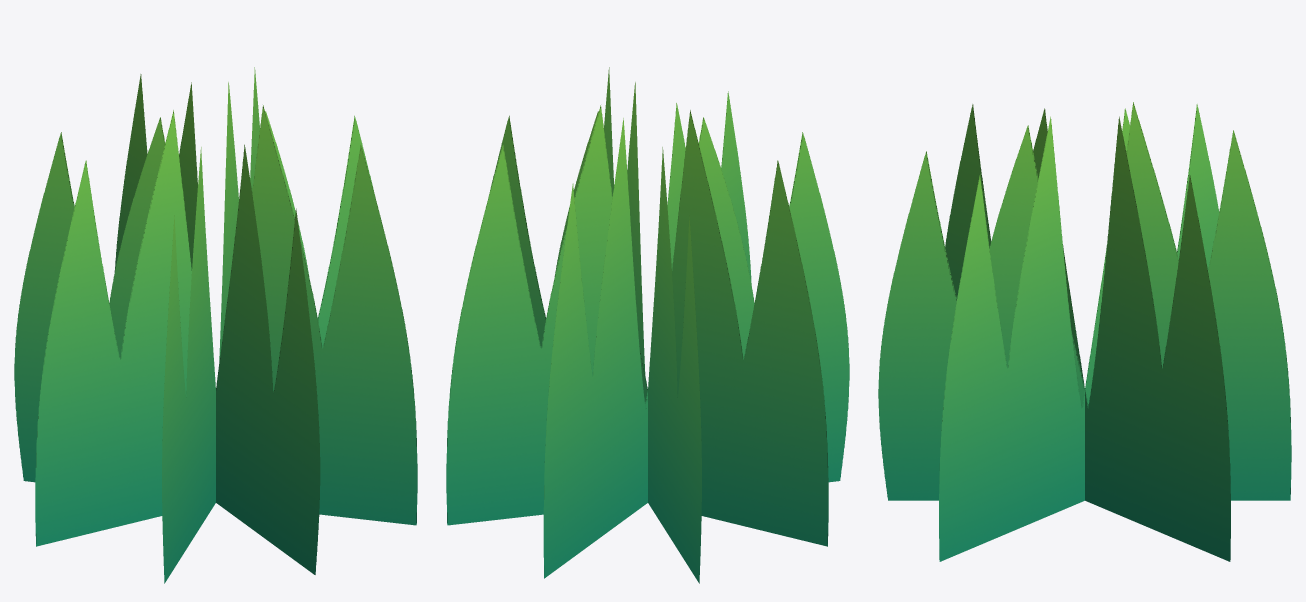
Rendered from Grass.fbx.
3 views of the same model, side by side, from view 1: azimuth 30°, elevation 25°; view 2: azimuth 150°, elevation 25°; view 3: azimuth 270°, elevation 25° (orthographic).
Visible parts, largest first — view 1: Plane.007; view 2: Plane.007; view 3: Plane.007.
Boxes of the visible parts, <box> form: Plane.007: <box>14,67,417,583</box>; Plane.007: <box>446,67,849,583</box>; Plane.007: <box>878,102,1291,561</box>.
Bounding box in the file's own units: 73.6 × 78.53 × 73.6.
